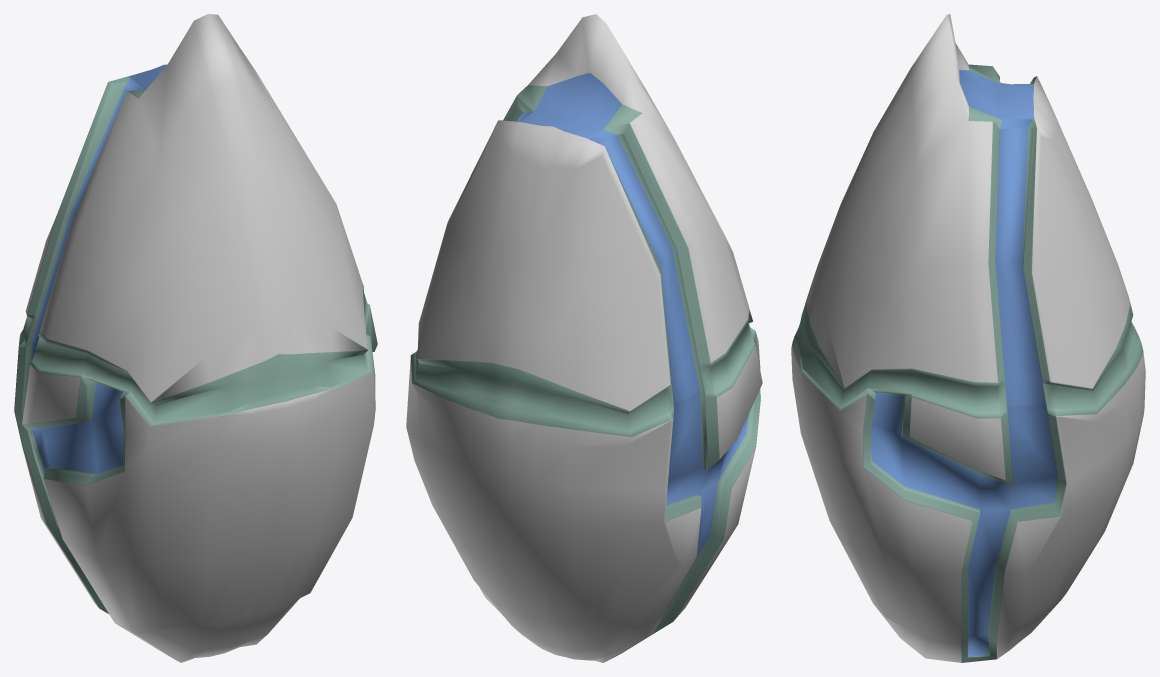
Rendered from xenoegg2.fbx.
3 renders of one model, left to right at view 1: azimuth 30°, elevation 25°; view 2: azimuth 150°, elevation 25°; view 3: azimuth 270°, elevation 25°, orthographic.
Visible parts, largest first — view 1: EGG; view 2: EGG; view 3: EGG.
Boxes of the visible parts, <box> form: EGG: <box>14,14,377,662</box>; EGG: <box>406,14,762,662</box>; EGG: <box>791,14,1145,662</box>.
Bounding box in the file's own units: 194 × 371 × 188.
